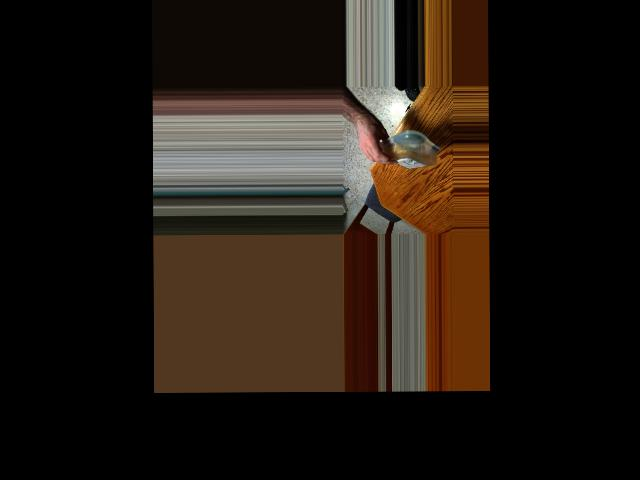cheese: (368, 132, 440, 170)
